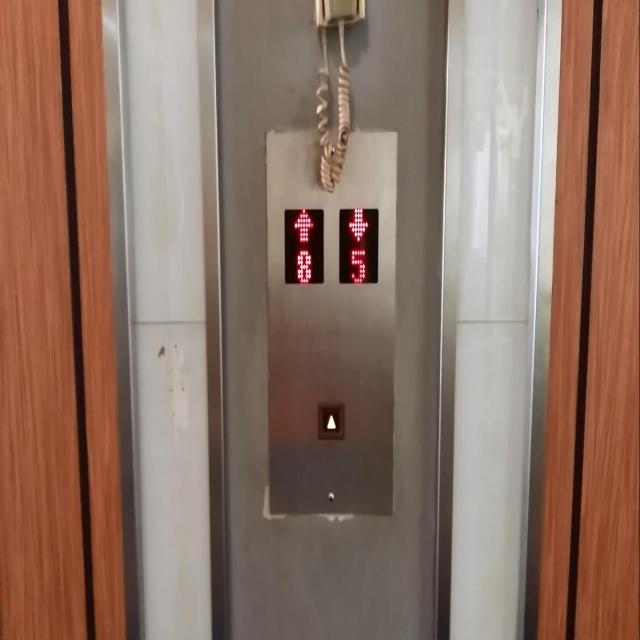led: (338, 205, 378, 285), (284, 206, 324, 284)
up: (317, 401, 346, 443)
